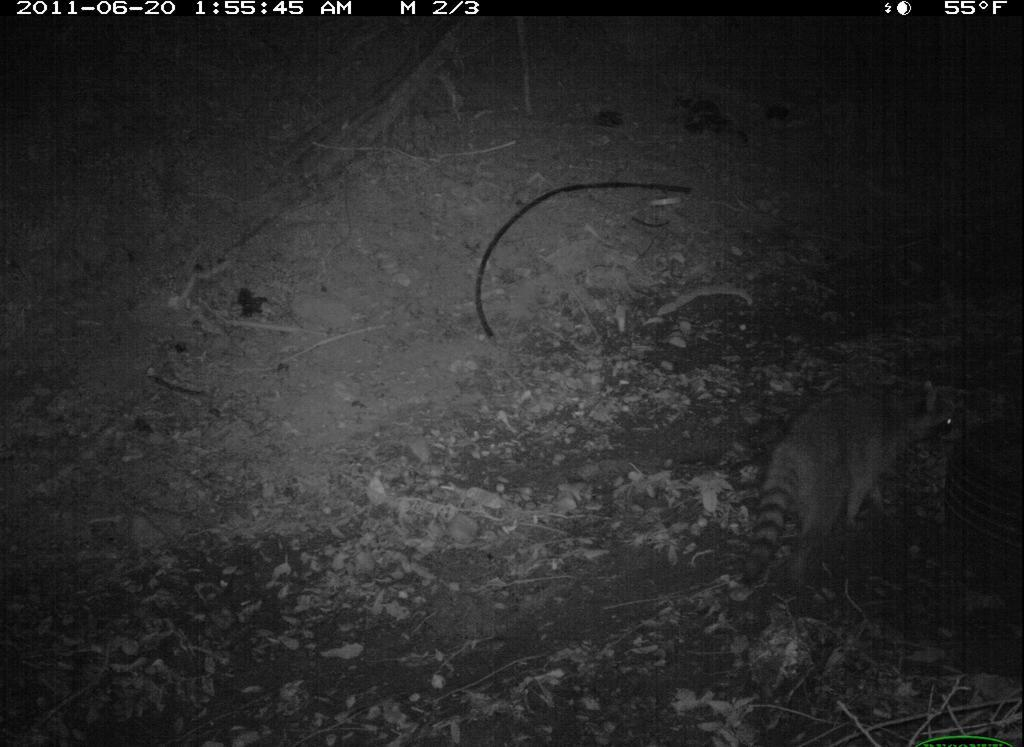raccoon: (739, 359, 969, 580)
